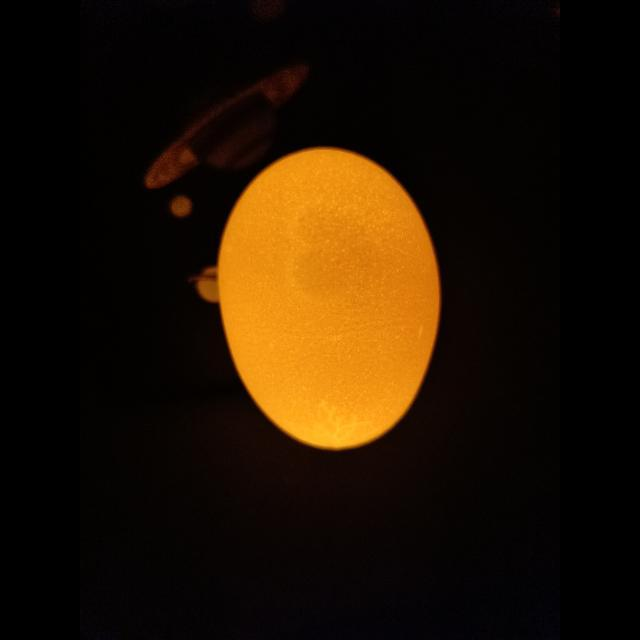AA - Premium: (218, 148, 440, 449), (351, 239, 354, 241)
